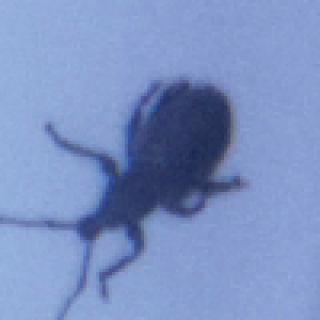bvw: (0, 73, 249, 320)
